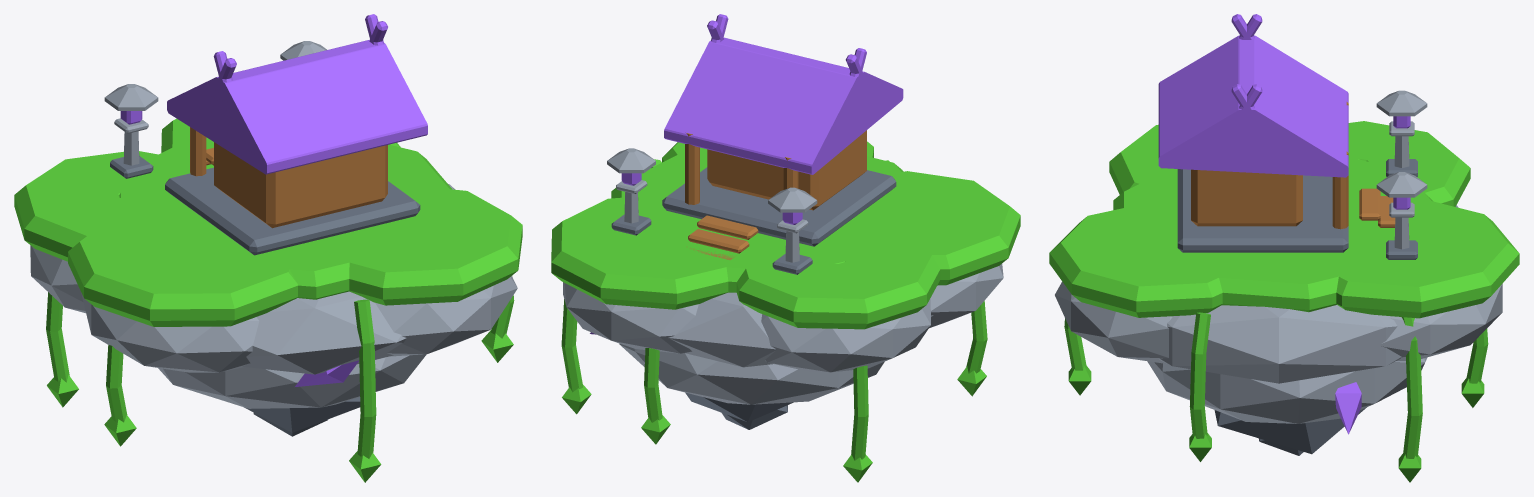
Rendered from Prop_realm_of_legends_FloatingShrine.glb.
3 views of the same model, side by side, from view 1: azimuth 30°, elevation 25°; view 2: azimuth 150°, elevation 25°; view 3: azimuth 270°, elevation 25° (orthographic). The views are drawn at different scales.
Visible parts, largest first — view 1: Grass_5BD43A, StoneLight_9AA4B2, ZoneViolet_A66BFF, Wood_B5793F, StoneDark_6B7686; view 2: Grass_5BD43A, StoneLight_9AA4B2, ZoneViolet_A66BFF, StoneDark_6B7686, Wood_B5793F; view 3: Grass_5BD43A, StoneLight_9AA4B2, ZoneViolet_A66BFF, StoneDark_6B7686, Wood_B5793F.
Part boxes in pixels (x1,y1,x2,y2): Grass_5BD43A: (14, 118, 522, 482); StoneLight_9AA4B2: (30, 41, 517, 408); ZoneViolet_A66BFF: (120, 14, 427, 386); Wood_B5793F: (190, 127, 387, 228); StoneDark_6B7686: (110, 156, 420, 436); Grass_5BD43A: (551, 141, 1020, 482); StoneLight_9AA4B2: (563, 148, 1003, 404); ZoneViolet_A66BFF: (590, 14, 903, 334); StoneDark_6B7686: (611, 167, 896, 429); Wood_B5793F: (685, 130, 866, 259); Grass_5BD43A: (1049, 121, 1519, 482); StoneLight_9AA4B2: (1055, 90, 1502, 423); ZoneViolet_A66BFF: (1158, 14, 1410, 434); StoneDark_6B7686: (1177, 159, 1417, 455); Wood_B5793F: (1191, 102, 1395, 229).
Bounding box in the file's own units: 17.4 × 16.14 × 17.59.
